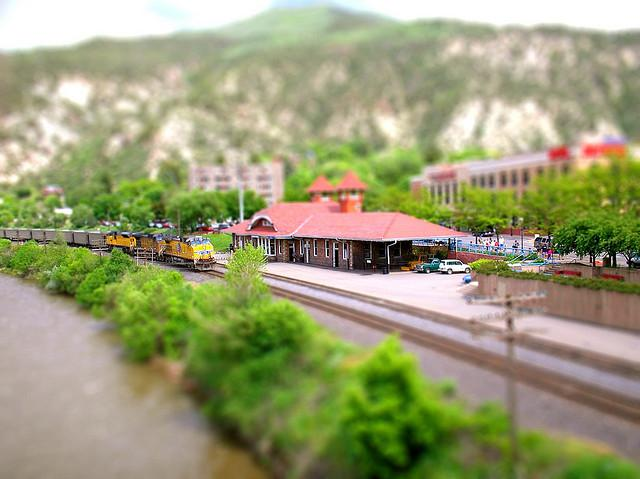Train: (2, 230, 219, 274)
